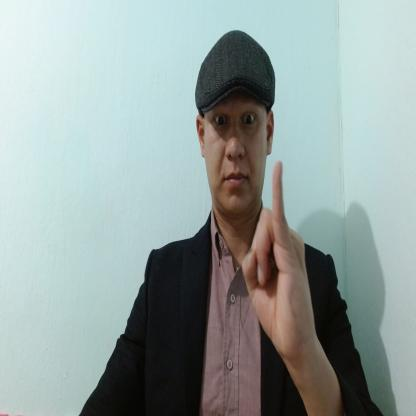I: (240, 159, 316, 358)
